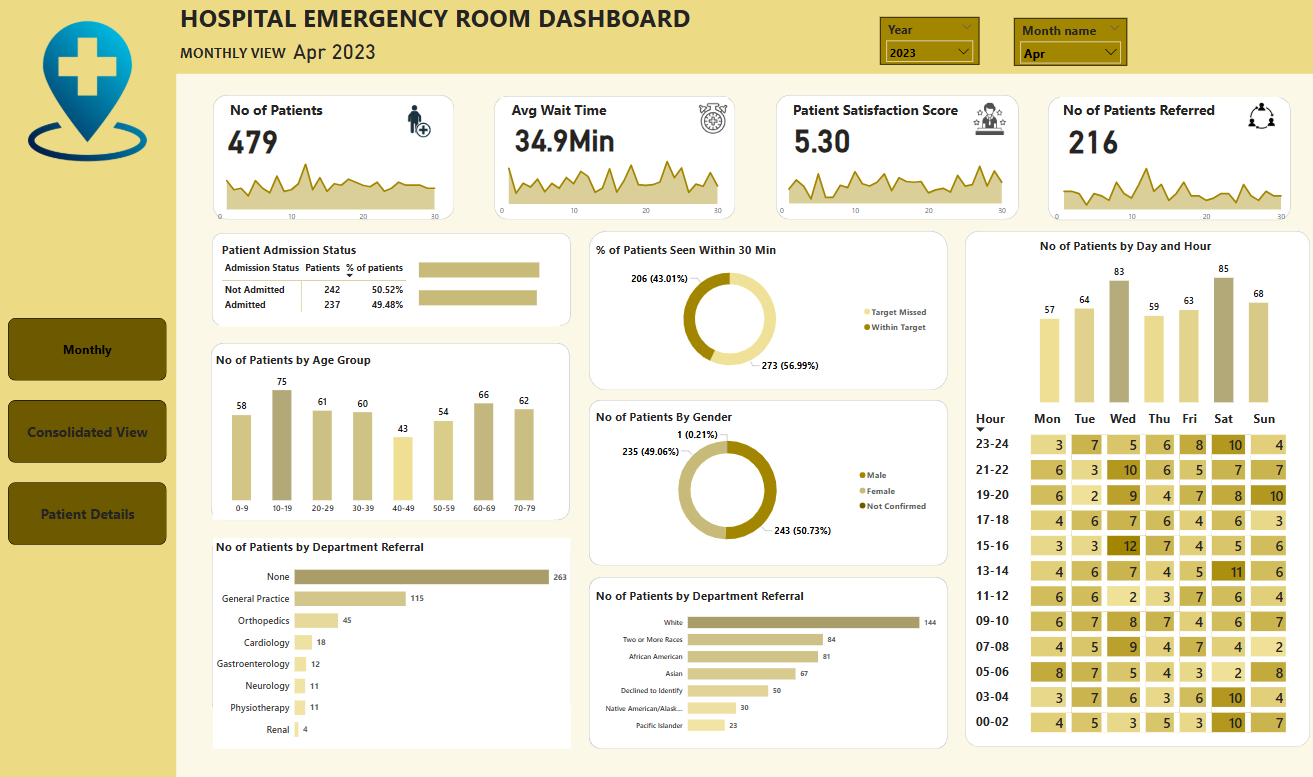

Layout of this report page (visuals, bound fields, positions):
{"tool":"powerbi","page":{"name":"Monthly","canvas":[2300,1400],"ordinal":0},"visuals":[{"type":"shape","box":[0,33.1,308.6,1366.8],"z":0},{"type":"shape","box":[308.6,33.1,1991.4,132.3],"z":1000},{"type":"textbox","box":[309.3,33.2,943.8,124.1],"z":2000},{"type":"textbox","box":[309.3,108.4,379.3,97.9],"z":3000},{"type":"shape","box":[372.3,202.7,420,216.7],"z":4000},{"type":"cardVisual","fields":{"Data":["Hospital  Project ER dataset.No of patients"]},"box":[292.1,227.8,299.4,95.5],"z":5000},{"type":"slicer","fields":{"Values":["Date Table.year"]},"box":[1533.9,66.1,172.7,82.7],"z":6000},{"type":"slicer","fields":{"Values":["Date Table.month name"]},"box":[1767.3,68,196.6,82.7],"z":7000},{"type":"textbox","box":[396.8,205.8,383.9,51.4],"z":8000},{"type":"areaChart","fields":{"Category":["Date Table.Date.Variation.Date Hierarchy.Day"],"Y":["Hospital  Project ER dataset.No of patients"]},"box":[369.2,308.6,404.2,123.1],"z":9000},{"type":"cardVisual","fields":{"Data":["Min(Date Table.Month and Date)"]},"box":[494.5,5.2,188.1,233.3],"z":10000},{"type":"shape","box":[862.8,204.5,420,215],"z":11000},{"type":"shape","box":[1826,205.8,422.5,214.9],"z":12000},{"type":"shape","box":[1353.2,202.1,422.5,216.8],"z":13000},{"type":"textbox","box":[873.9,206.2,395,50.7],"z":14000},{"type":"areaChart","fields":{"Category":["Date Table.Date.Variation.Date Hierarchy.Day"],"Y":["Avg(Hospital  Project ER dataset.Patient Waittime)"]},"box":[859.7,297.6,406,123.1],"z":15000},{"type":"card","fields":{"Values":["Avg(Hospital  Project ER dataset.Patient Satisfaction Score)"]},"box":[1363.2,232.4,138.1,87.4],"z":16000},{"type":"textbox","box":[1377.2,206.2,328.6,50.7],"z":17000},{"type":"areaChart","fields":{"Category":["Date Table.Date.Variation.Date Hierarchy.Day"],"Y":["Sum(Hospital  Project ER dataset.Patient Satisfaction Score)"]},"box":[1348.4,297.6,413.3,123.1],"z":18000},{"type":"areaChart","fields":{"Category":["Date Table.Date.Variation.Date Hierarchy.Day"],"Y":["Hospital  Project ER dataset.No of Patient Referred"]},"box":[1826,308.6,420.7,123.1],"z":19000},{"type":"shape","box":[371.1,442.7,624.6,161.7],"z":20000},{"type":"pivotTable","title":"Patient Admission Status","fields":{"Rows":["Hospital  Project ER dataset.Admission Flag"],"Values":["Hospital  Project ER dataset.No of patients","Divide(Hospital  Project ER dataset.No of patients, ScopedEval(Hospital  Project ER dataset.No of patients, []))"]},"box":[383.9,455.6,593.4,148.8],"z":21000},{"type":"barChart","fields":{"Y":["Hospital  Project ER dataset.No of patients"],"Category":["Hospital  Project ER dataset.Admission Flag"]},"box":[725.6,455.6,270,145.1],"z":22000},{"type":"shape","box":[369.2,633.8,624.6,308.6],"z":23000},{"type":"textbox","box":[1848.1,205.8,382.1,51.4],"z":24000},{"type":"card","fields":{"Values":["Hospital  Project ER dataset.No of Patient Referred"]},"box":[1848.1,244.3,115.7,66.1],"z":25000},{"type":"clusteredColumnChart","title":"No of Patients by Age Group","fields":{"Y":["Hospital  Project ER dataset.No of patients"],"Category":["Hospital  Project ER dataset.Age Group"]},"box":[372.9,648.5,593.4,293.9],"z":26000},{"type":"shape","box":[371.1,973.6,624.6,308.6],"z":27000},{"type":"clusteredBarChart","title":"No of Patients by Department Referral","fields":{"Category":["Hospital  Project ER dataset.Department Referral"],"Y":["Hospital  Project ER dataset.No of patients"]},"box":[372.9,973.6,622.8,367.4],"z":28000},{"type":"shape","box":[1026.9,439.1,624.6,277.4],"z":29000},{"type":"donutChart","title":"% of Patients Seen Within 30 Min","fields":{"Category":["Hospital  Project ER dataset.Waittime Status"],"Y":["Hospital  Project ER dataset.No of patients"]},"box":[1034.3,455.6,595.2,244.3],"z":30000},{"type":"shape","box":[1026.9,733,624.6,288.4],"z":31000},{"type":"shape","box":[1026.9,1041.6,624.6,299.4],"z":32000},{"type":"clusteredBarChart","title":"No of Patients by Department Referral","fields":{"Y":["Hospital  Project ER dataset.No of patients"],"Category":["Hospital  Project ER dataset.Patient Race"]},"box":[1034.3,1058.1,609.9,268.2],"z":33000},{"type":"donutChart","title":"No of Patients By Gender","fields":{"Y":["Hospital  Project ER dataset.No of patients"],"Category":["Hospital  Project ER dataset.Patient Gender"]},"box":[1034.3,747.7,595.2,259],"z":34000},{"type":"shape","box":[1682.7,439.1,600.7,898.3],"z":35000},{"type":"pivotTable","fields":{"Rows":["Hospital  Project ER dataset.Waittime Interval"],"Columns":["Date Table.Day"],"Values":["Hospital  Project ER dataset.No of patients"]},"box":[1690.1,744,578.7,582.3],"z":36000},{"type":"clusteredColumnChart","title":"No of Patients by Day and Hour","fields":{"Y":["Hospital  Project ER dataset.No of patients"],"Category":["Date Table.Day"]},"box":[1807.7,450.1,409.7,293.9],"z":37000},{"type":"image","box":[3.7,68,301.3,255.4],"z":38000},{"type":"image","box":[582.3,213.1,301.3,71.6],"z":39000},{"type":"image","box":[1133.5,211.3,220.4,64.3],"z":40000},{"type":"image","box":[1574.4,211.3,301.3,66.1],"z":41000},{"type":"image","box":[2149.4,211.3,99.2,55.1],"z":42000},{"type":"card","fields":{"Values":["Hospital  Project ER dataset.Avg waittime"]},"box":[874.4,242.5,222.3,66.1],"z":43000},{"type":"pageNavigator","box":[15.7,590.3,276.9,395.3],"z":44000}]}

Visuals, with their boxes in screenshot pixels (x1, y1, x2, y2), scaled from the page's 2300x1400 canvas onto the 1313x777 screenshot:
shape: rect(0, 18, 176, 776)
shape: rect(176, 18, 1312, 92)
textbox: rect(177, 18, 715, 87)
textbox: rect(177, 60, 393, 114)
shape: rect(213, 112, 452, 233)
cardVisual - Hospital  Project ER dataset.No of patients: rect(167, 126, 338, 179)
slicer - Date Table.year: rect(876, 37, 974, 83)
slicer - Date Table.month name: rect(1009, 38, 1121, 84)
textbox: rect(227, 114, 446, 143)
areaChart - Date Table.Date.Variation.Date Hierarchy.Day x Hospital  Project ER dataset.No of patients: rect(211, 171, 442, 240)
cardVisual - Min(Date Table.Month and Date): rect(282, 3, 390, 132)
shape: rect(493, 113, 732, 233)
shape: rect(1042, 114, 1284, 233)
shape: rect(773, 112, 1014, 232)
textbox: rect(499, 114, 724, 143)
areaChart - Date Table.Date.Variation.Date Hierarchy.Day x Avg(Hospital  Project ER dataset.Patient Waittime): rect(491, 165, 723, 233)
card - Avg(Hospital  Project ER dataset.Patient Satisfaction Score): rect(778, 129, 857, 177)
textbox: rect(786, 114, 974, 143)
areaChart - Date Table.Date.Variation.Date Hierarchy.Day x Sum(Hospital  Project ER dataset.Patient Satisfaction Score): rect(770, 165, 1006, 233)
areaChart - Date Table.Date.Variation.Date Hierarchy.Day x Hospital  Project ER dataset.No of Patient Referred: rect(1042, 171, 1283, 240)
shape: rect(212, 246, 568, 335)
"Patient Admission Status" pivotTable: rect(219, 253, 558, 335)
barChart - Hospital  Project ER dataset.No of patients x Hospital  Project ER dataset.Admission Flag: rect(414, 253, 568, 333)
shape: rect(211, 352, 567, 523)
textbox: rect(1055, 114, 1273, 143)
card - Hospital  Project ER dataset.No of Patient Referred: rect(1055, 136, 1121, 172)
"No of Patients by Age Group" clusteredColumnChart: rect(213, 360, 552, 523)
shape: rect(212, 540, 568, 712)
"No of Patients by Department Referral" clusteredBarChart: rect(213, 540, 568, 744)
shape: rect(586, 244, 943, 398)
"% of Patients Seen Within 30 Min" donutChart: rect(590, 253, 930, 388)
shape: rect(586, 407, 943, 567)
shape: rect(586, 578, 943, 744)
"No of Patients by Department Referral" clusteredBarChart: rect(590, 587, 939, 736)
"No of Patients By Gender" donutChart: rect(590, 415, 930, 559)
shape: rect(961, 244, 1304, 742)
pivotTable - Hospital  Project ER dataset.Waittime Interval x Date Table.Day: rect(965, 413, 1295, 736)
"No of Patients by Day and Hour" clusteredColumnChart: rect(1032, 250, 1266, 413)
image: rect(2, 38, 174, 179)
image: rect(332, 118, 504, 158)
image: rect(647, 117, 773, 153)
image: rect(899, 117, 1071, 154)
image: rect(1227, 117, 1284, 148)
card - Hospital  Project ER dataset.Avg waittime: rect(499, 135, 626, 171)
pageNavigator: rect(9, 328, 167, 547)
